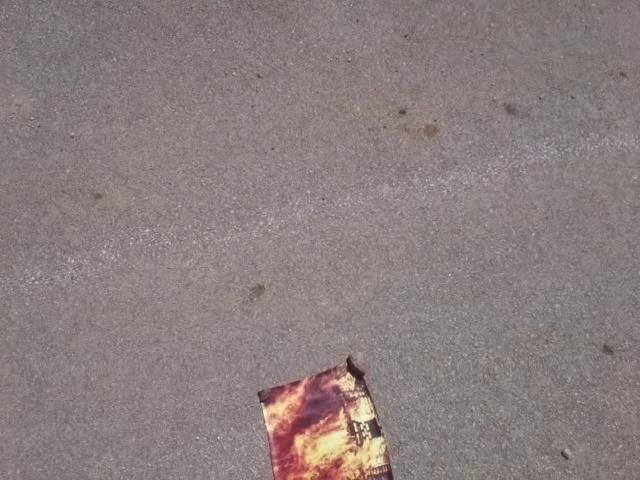fire-poster: (254, 353, 396, 479)
